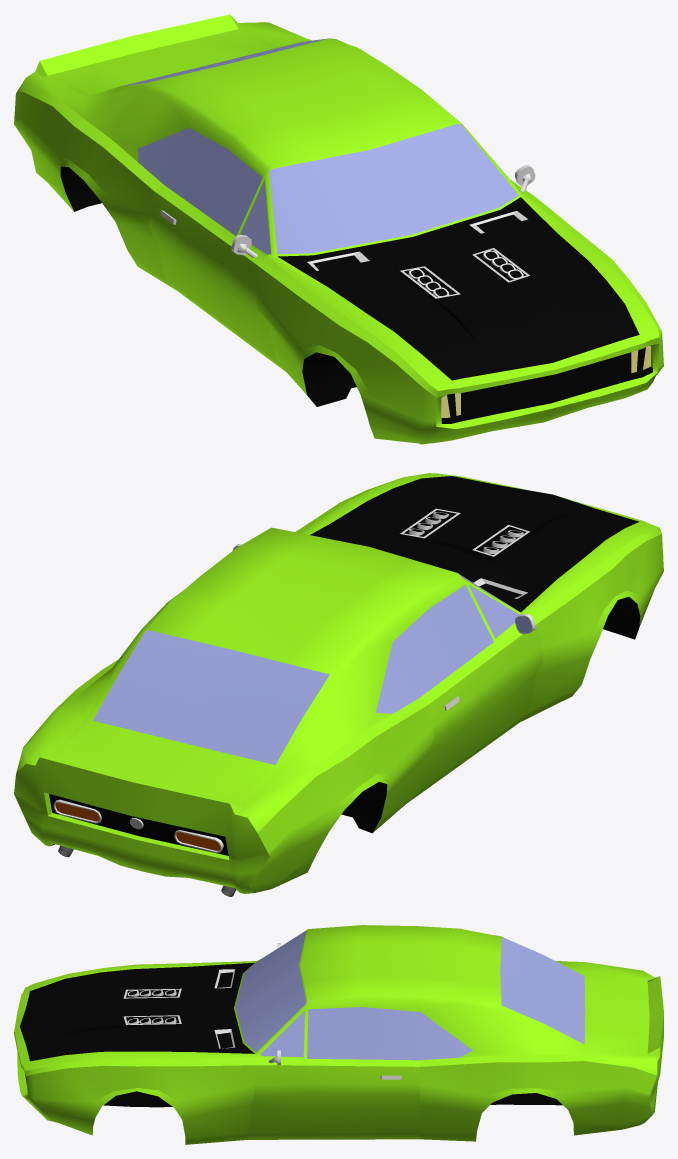
File: CC96_Body_2.fbx
The picture shows the model from 3 angles, top to bottom: view 1: azimuth 30°, elevation 25°; view 2: azimuth 150°, elevation 25°; view 3: azimuth 270°, elevation 25°; orthographic projection. The views are drawn at different scales.
Parts seen in each view (by area): view 1: Cube.001; view 2: Cube.001; view 3: Cube.001.
Boxes of the visible parts, <box> form: Cube.001: <box>14,14,663,444</box>; Cube.001: <box>14,473,663,896</box>; Cube.001: <box>14,925,663,1144</box>.
Bounding box in the file's own units: 142 × 80.98 × 346.
